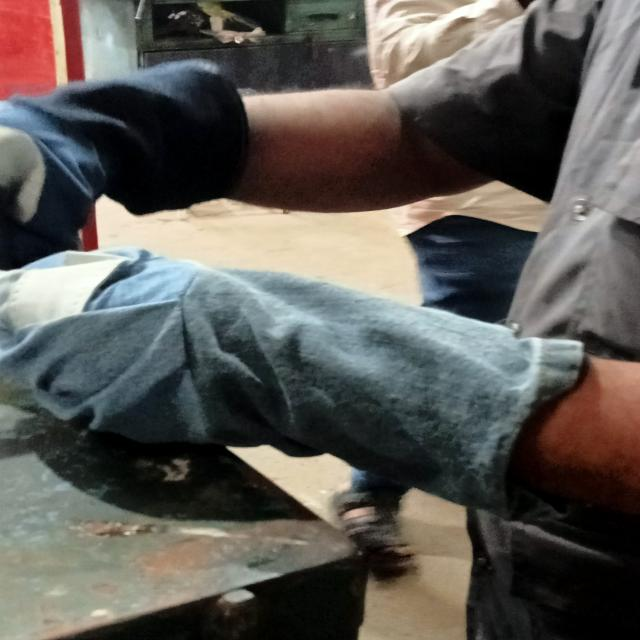Gloves-Detection: (0, 245, 600, 514), (0, 49, 189, 246)
